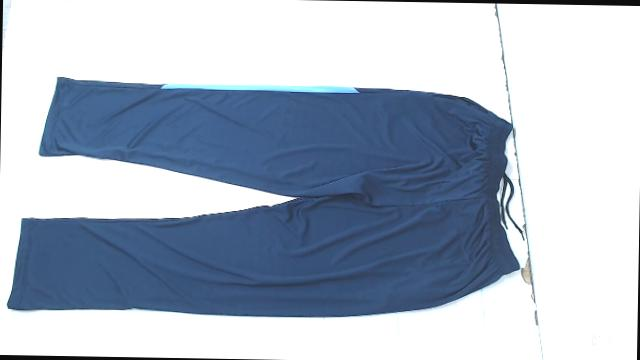new-garment: (8, 77, 518, 316)
